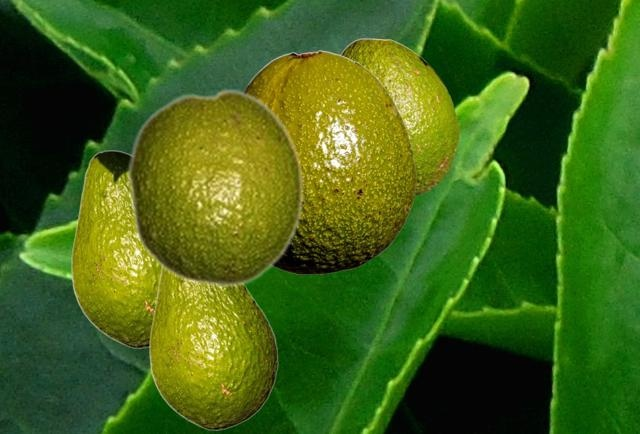avocado: (244, 50, 415, 273), (126, 87, 304, 288), (149, 267, 277, 429), (340, 38, 458, 195), (71, 150, 160, 347)
